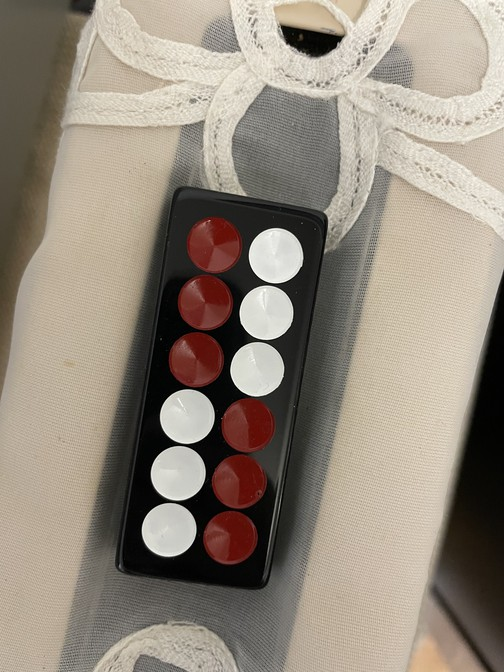heaven: (117, 186, 330, 591)
